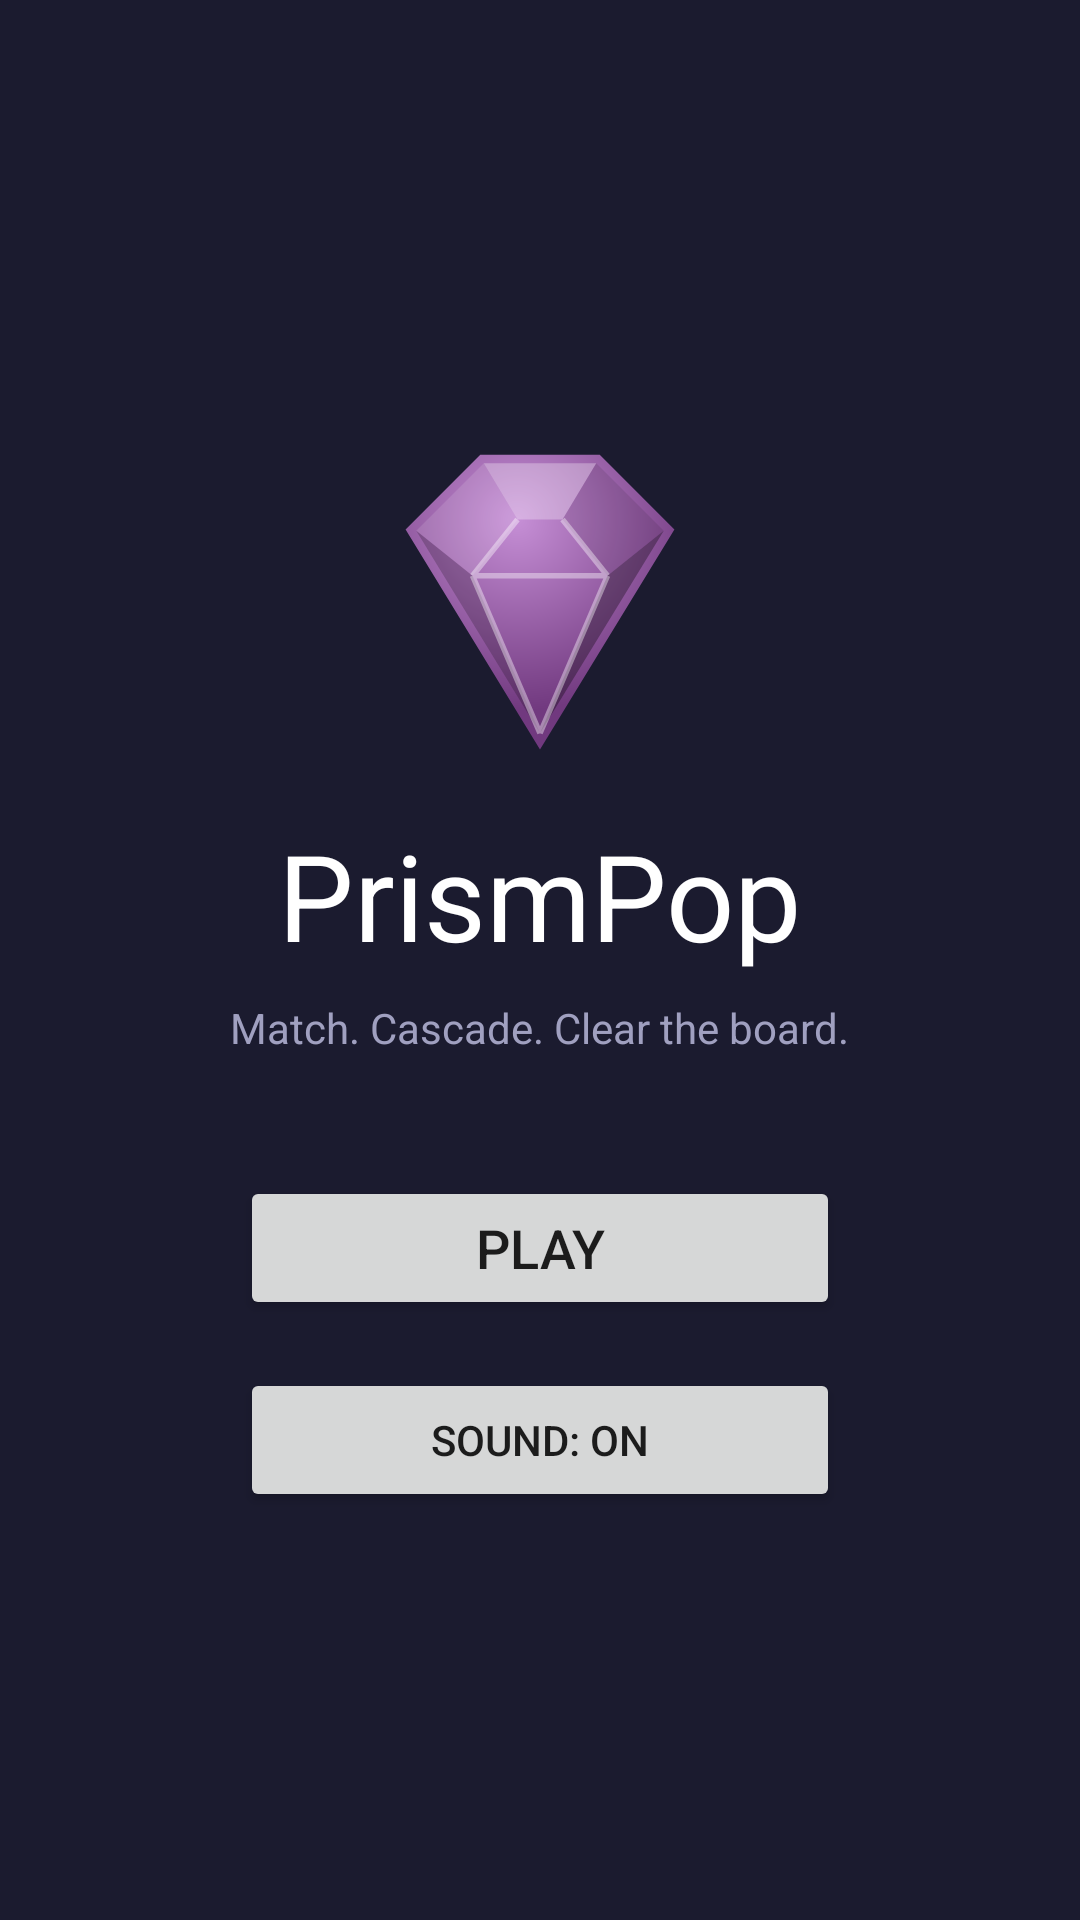

Where to tap for icons on this 1080px x 1920px app screen, as (x=x, y=y):
gem: (x=539, y=601)
